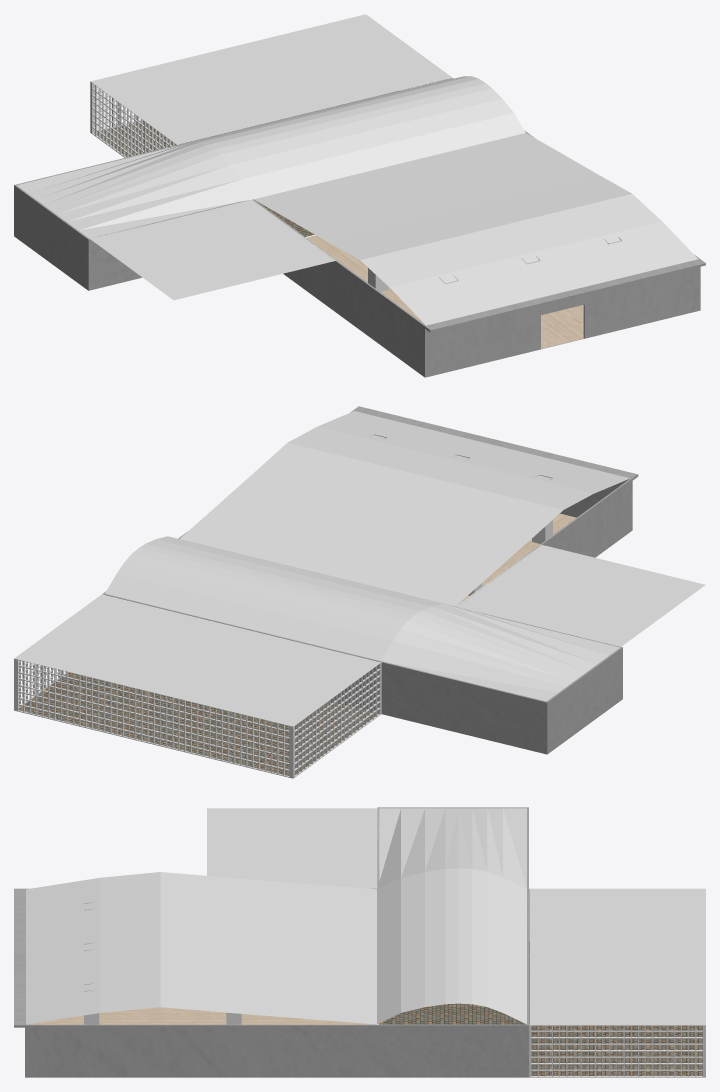
File: Galeria.fbx
The picture shows the model from 3 angles, top to bottom: view 1: azimuth 30°, elevation 25°; view 2: azimuth 150°, elevation 25°; view 3: azimuth 270°, elevation 25°; orthographic projection.
Parts seen in each view (by area): view 1: Techo, Paredes Exteriores, Techo Invernadero, Pared Invernadero, Piso, Piso piedra; view 2: Techo, Techo Invernadero, Paredes Exteriores, Pared Invernadero, Piso piedra, Piso; view 3: Techo, Paredes Exteriores, Techo Invernadero, Piso piedra, Pared Invernadero, Piso, Columnas.
Boxes of the visible parts, x1=… form: Techo: x1=17, y1=76, x2=697, y2=325; Paredes Exteriores: x1=14, y1=78, x2=705, y2=377; Techo Invernadero: x1=93, y1=15, x2=450, y2=144; Pared Invernadero: x1=90, y1=14, x2=452, y2=157; Piso: x1=306, y1=235, x2=583, y2=348; Piso piedra: x1=94, y1=91, x2=398, y2=236; Techo: x1=105, y1=411, x2=705, y2=701; Techo Invernadero: x1=17, y1=594, x2=378, y2=725; Paredes Exteriores: x1=102, y1=406, x2=638, y2=754; Pared Invernadero: x1=14, y1=594, x2=381, y2=778; Piso piedra: x1=18, y1=672, x2=378, y2=775; Piso: x1=457, y1=513, x2=576, y2=604; Techo: x1=26, y1=808, x2=526, y2=1024; Paredes Exteriores: x1=14, y1=807, x2=528, y2=1077; Techo Invernadero: x1=529, y1=889, x2=703, y2=1024; Piso piedra: x1=379, y1=941, x2=702, y2=1075; Pared Invernadero: x1=529, y1=888, x2=705, y2=1077; Piso: x1=27, y1=1007, x2=375, y2=1024; Columnas: x1=84, y1=902, x2=241, y2=1024.
Bounding box in the file's own units: 4030 × 630 × 5408.
Materials: 3 (3 with a texture image).
